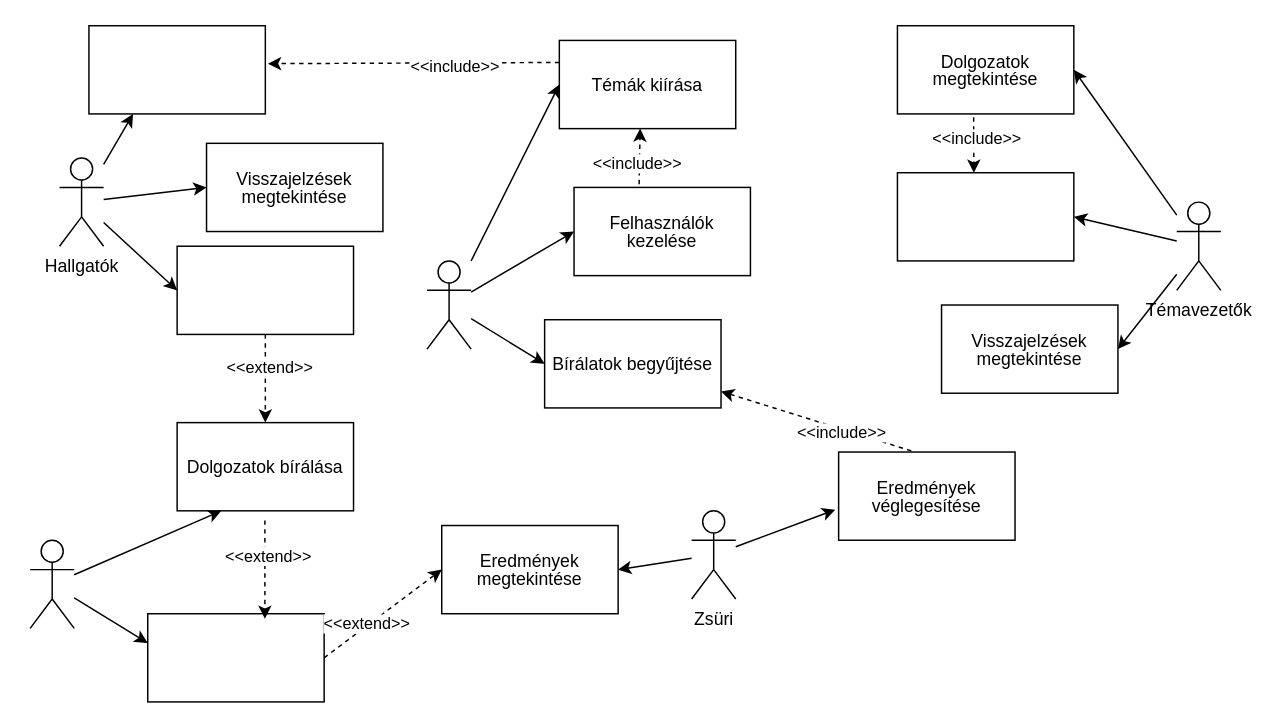
Image size: 1277x728. Some labels were removed from this diagram. The shapes that lost their labels are listed below. From the top down, each one's centre as x and y in pixels, then its label:
At point 176,69: "Témák választása".
At point 985,216: "Dolgozatok nyomonkövetése".
At point 265,289: "Dolgozatok feltöltése".
At point 448,304: "Adminisztrátorok".
At point 51,583: "Bírálók".
At point 235,657: "Dolgozatok pontozása".
